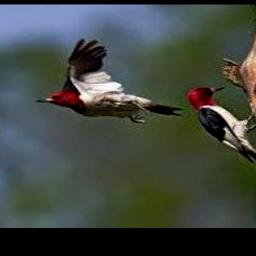Woodpecker: (35, 38, 183, 123), (186, 86, 256, 171)
